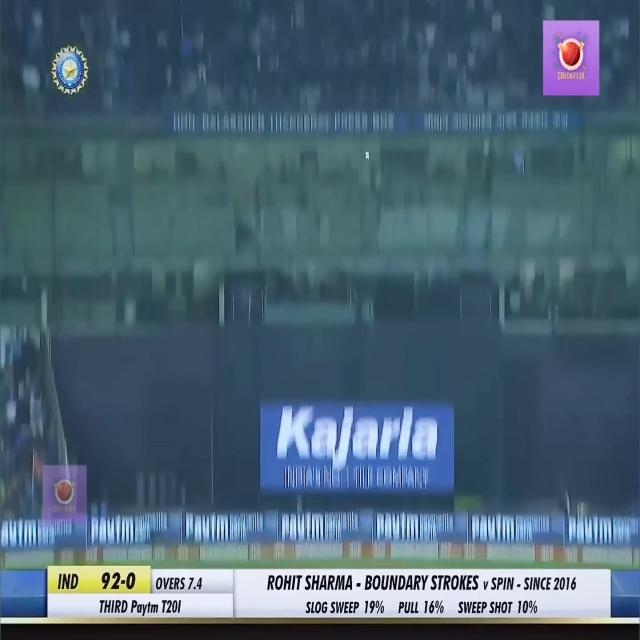fully_visible: (565, 512, 613, 548), (280, 512, 324, 546), (183, 513, 230, 542), (469, 513, 516, 542), (377, 510, 419, 541), (129, 595, 159, 618)
partially_visible: (88, 514, 135, 547), (1, 521, 38, 550)
